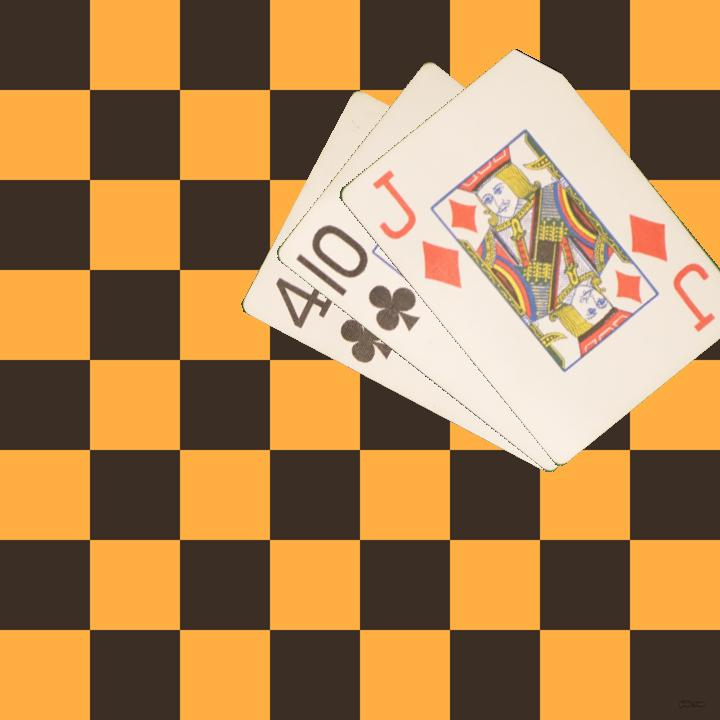10c: (306, 220, 423, 335)
4c: (271, 274, 397, 367)
Jd: (368, 165, 465, 292), (623, 209, 718, 336)
